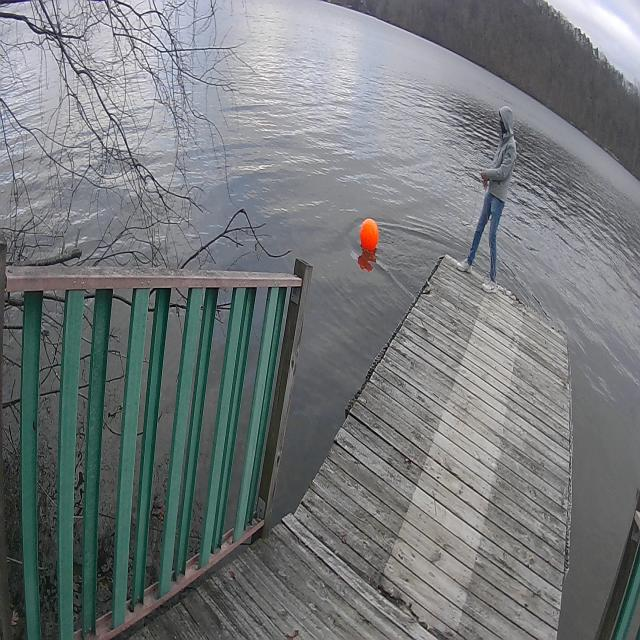Buoy: (355, 210, 384, 259)
